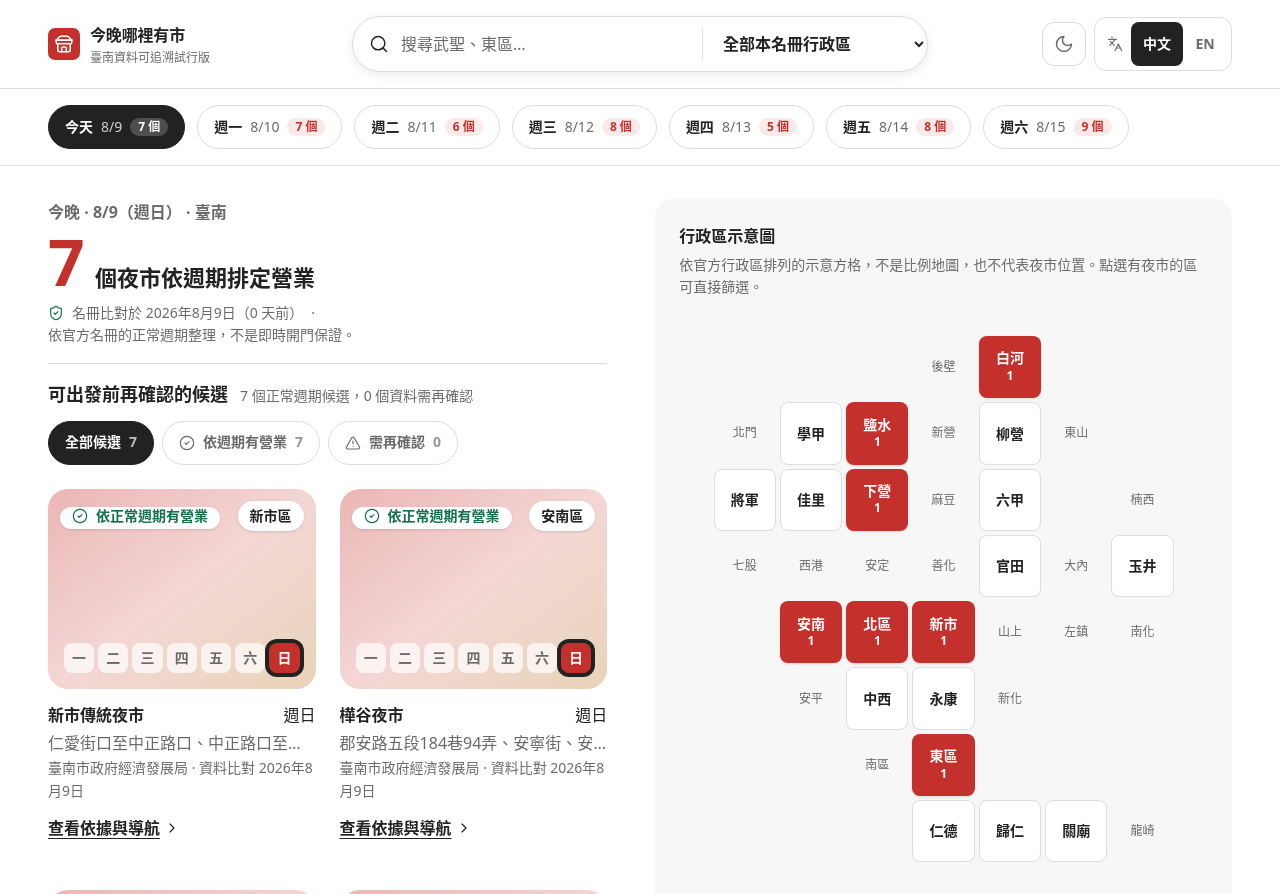
Scenario: trusted public experience › offers a recovery action when search removes every same-day candidate
Type "不存在的夜市" into the search field at {"x": 528, "y": 44}, box [353, 20, 702, 68]
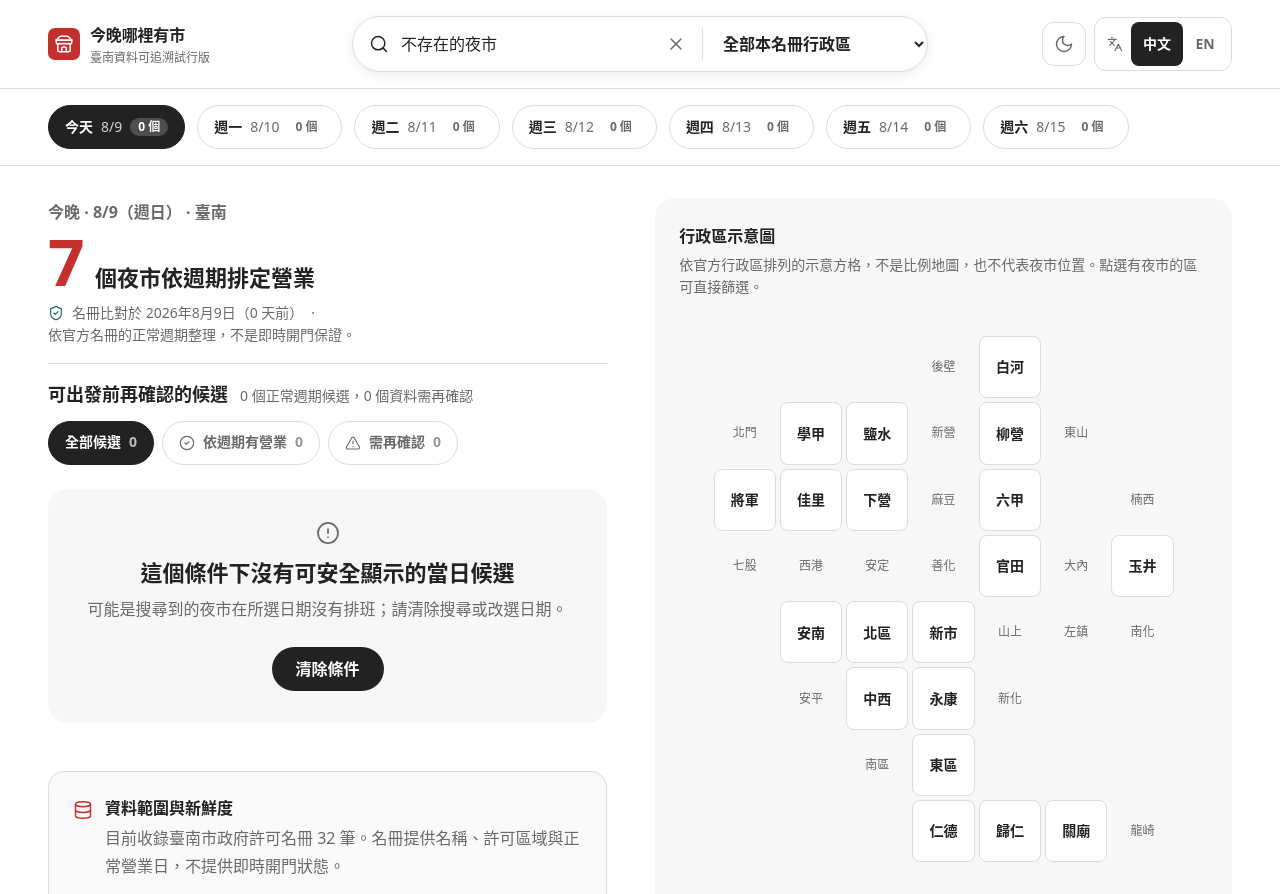
expect the heading "這個條件下沒有可安全顯示的當日候選" is shown: met, box [141, 557, 515, 587]
expect the number of buttons named "清除搜尋" is 1: met, box [654, 22, 698, 66]
expect the button "清除條件" is shown: met, box [272, 647, 384, 691]
